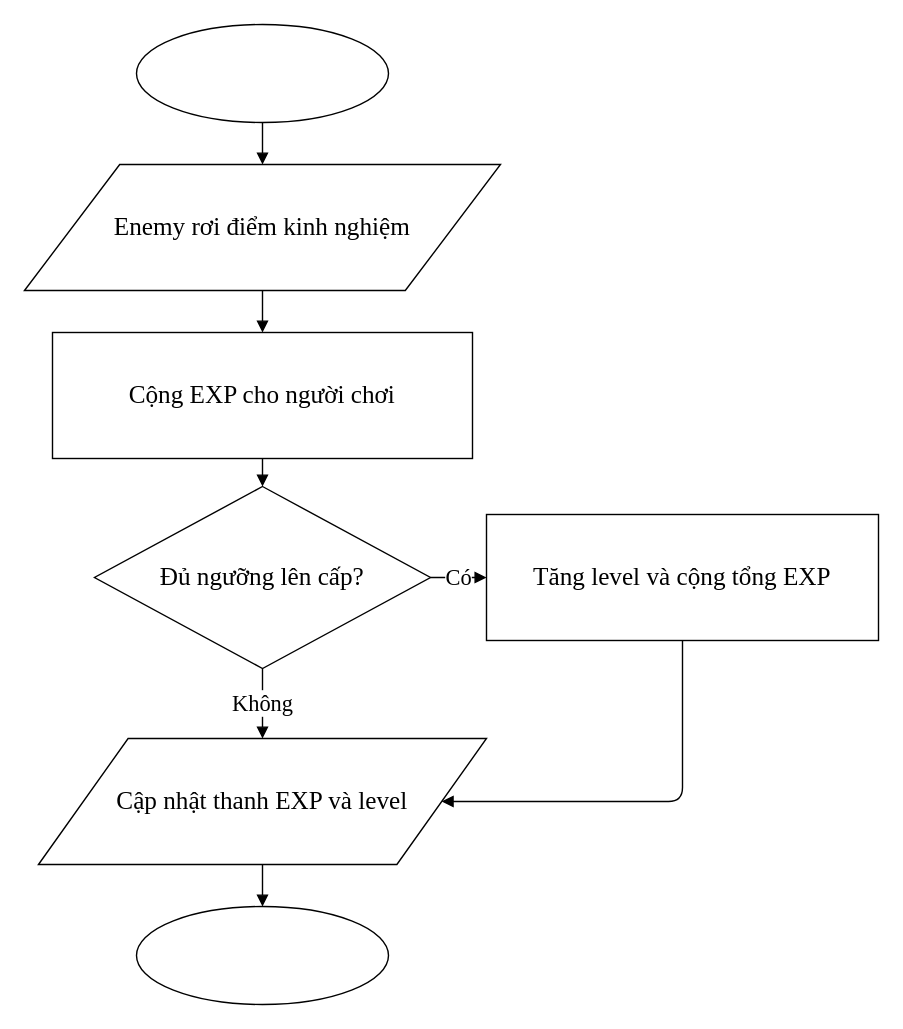
The diagram is 903 pixels wide and 1029 high, and some of its shapes have lost their labels. Here are the shapes that lost their labels. From the top down, the box of each, then its label:
(135, 23, 388, 122): Bắt đầu
(135, 905, 388, 1004): Kết thúc
